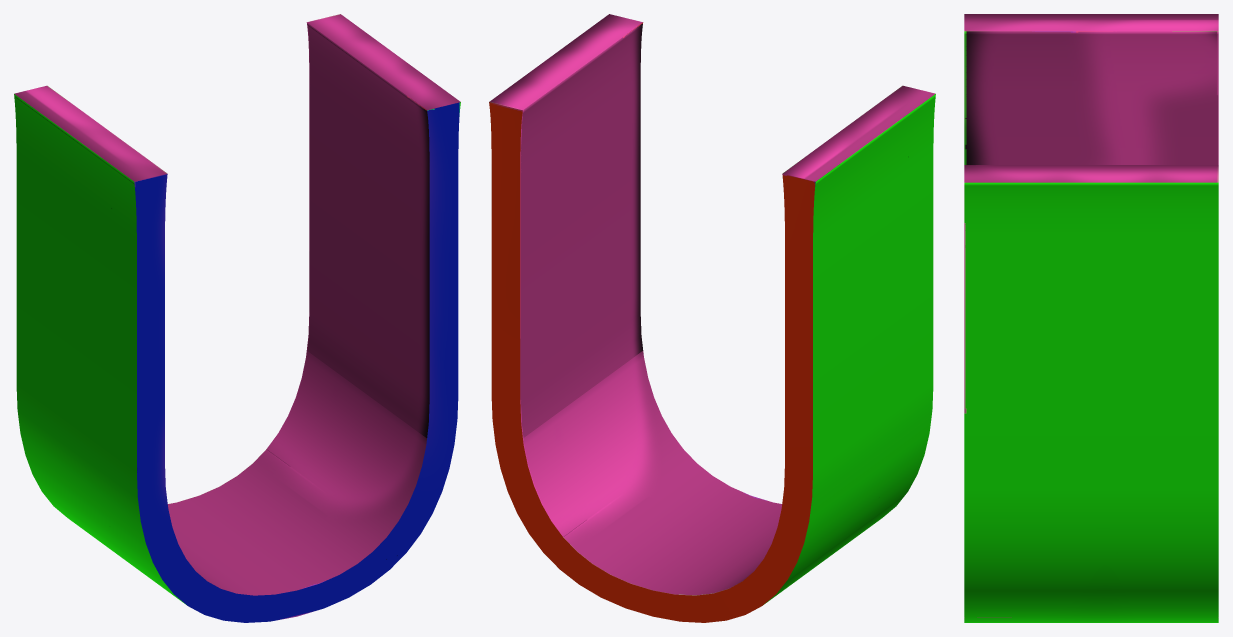
The picture shows the model from 3 angles, left to right: view 1: azimuth 30°, elevation 25°; view 2: azimuth 150°, elevation 25°; view 3: azimuth 270°, elevation 25°; orthographic projection. The views are drawn at different scales.
Parts seen in each view (by area): view 1: Text; view 2: Text; view 3: Text.
Boxes of the visible parts, x1,y1,x2,y2 form: Text: (14, 14, 460, 622); Text: (489, 14, 935, 622); Text: (964, 14, 1218, 622).
Size of the model in its own units: 42.32 by 58.76 by 27.
Materials: 1 (1 with a texture image).
